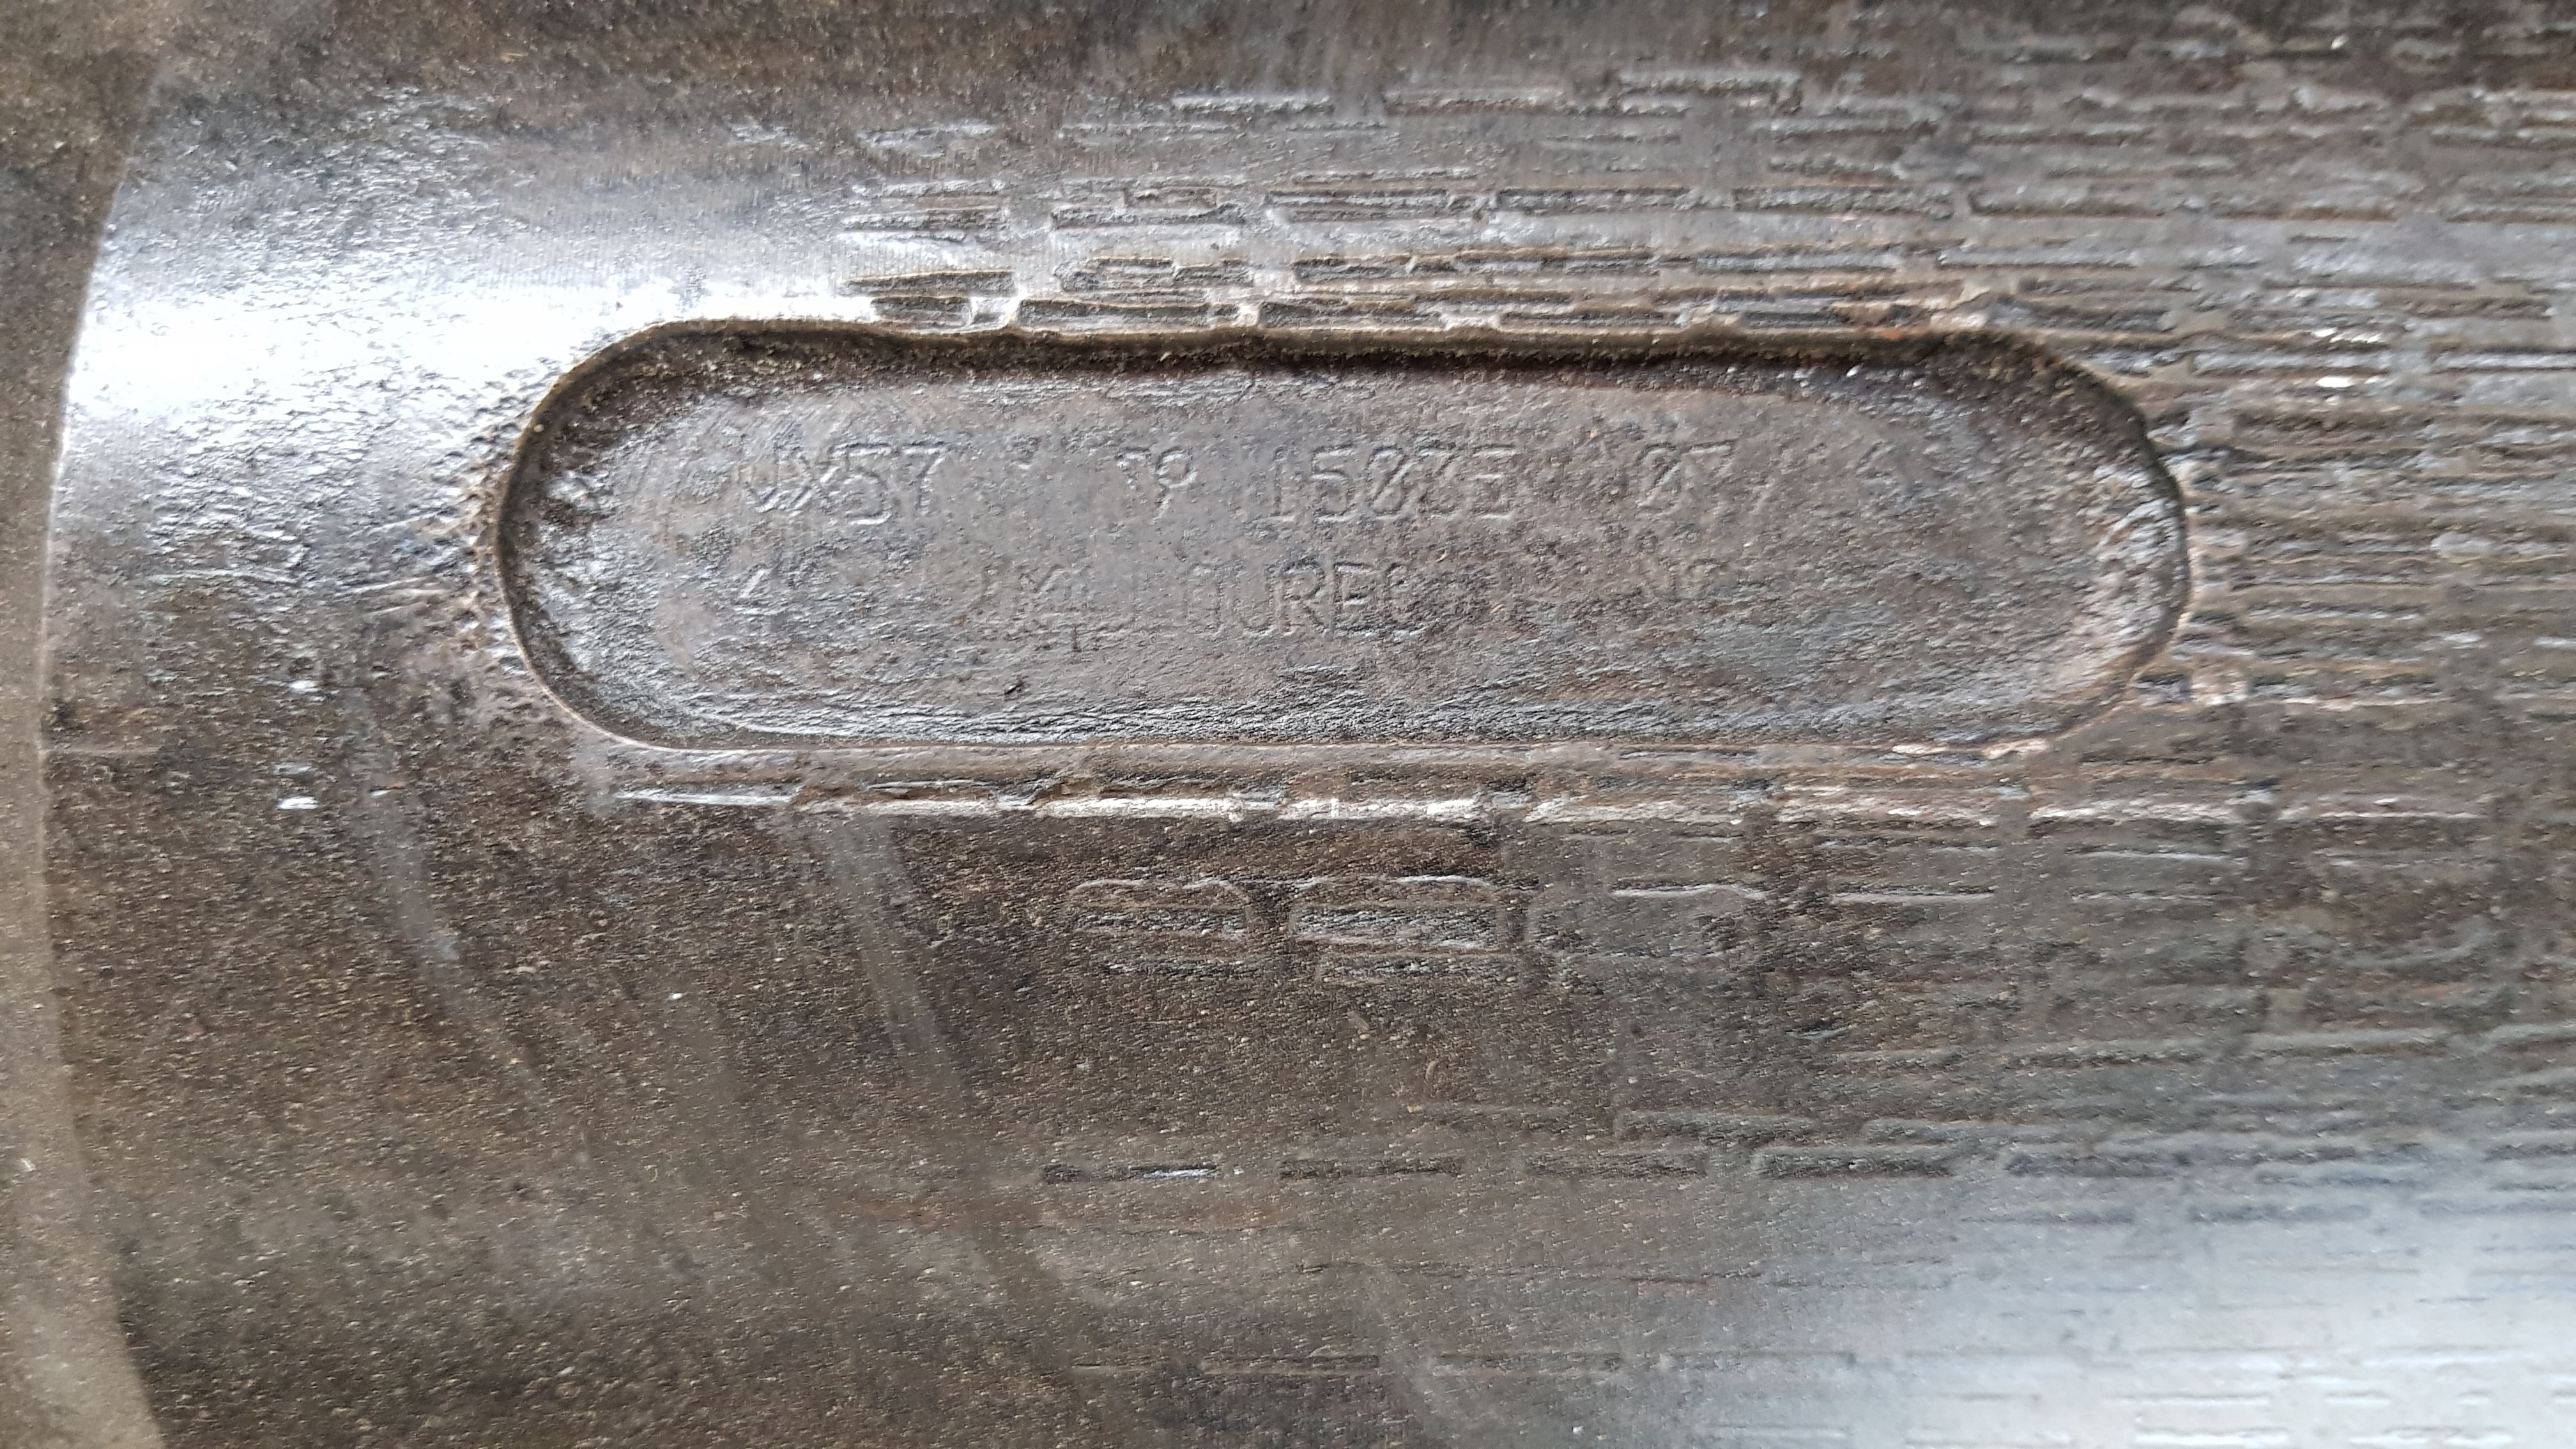character: (840, 439, 901, 536), (729, 425, 787, 517), (895, 435, 954, 527), (1327, 556, 1384, 646), (1306, 442, 1364, 527), (787, 446, 847, 522), (1470, 433, 1520, 525), (1359, 444, 1415, 524), (1380, 557, 1433, 640), (1421, 437, 1463, 524), (1261, 442, 1300, 529), (1281, 563, 1325, 637)
